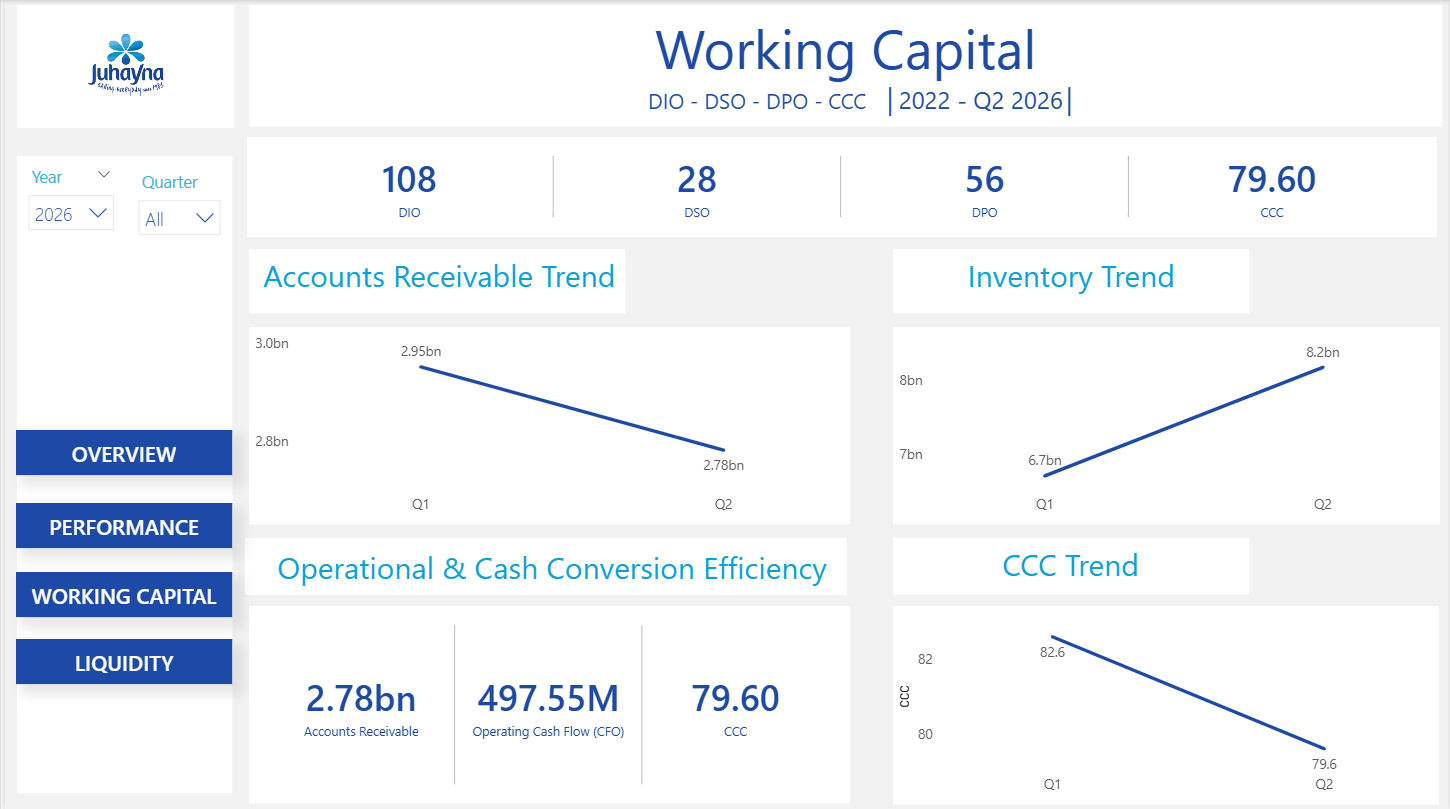

The dashboard page shown, as its layout file describes it:
{"tool":"powerbi","page":{"name":"WORKING CAPITAL","canvas":[1280,720],"ordinal":2},"visuals":[{"type":"shape","box":[10.7,4.3,192.7,109],"z":0,"group":"g2"},{"type":"shape","box":[216.7,4.4,1058.3,108.2],"z":0,"group":"g3"},{"type":"shape","box":[10.6,138.5,191.3,565.5],"z":0,"group":"g4"},{"type":"slicer","title":"quarter","fields":{"Values":["Dim_Date.Quarter"]},"box":[108.2,145.5,93.1,75.4],"z":0,"group":"g1"},{"type":"shape","box":[787.1,220.7,316.5,57.4],"z":0},{"type":"textbox","box":[216.7,4.4,1058.3,108.2],"z":1000,"group":"g3"},{"type":"image","box":[10.7,7.8,192.1,105.4],"z":1000,"group":"g2"},{"type":"slicer","title":"year","fields":{"Values":["Dim_Date.Year"]},"box":[10.9,141.1,95.8,79.5],"z":1000,"group":"g1"},{"type":"group","id":"g1","title":"Slicers","box":[10.9,141.1,721.9,348.8],"z":1000,"group":"g4"},{"type":"shape","box":[216.7,220.7,333.6,57.4],"z":1000},{"type":"shape","box":[212.7,477.2,533.6,50.5],"z":2000},{"type":"textbox","box":[213.9,479.6,543,57.6],"z":3000},{"type":"textbox","box":[787.1,220.7,316.5,57.4],"z":4000},{"type":"textbox","box":[216.7,220.7,337.6,57.4],"z":5000},{"type":"cardVisual","title":"CAPITALE cards","fields":{"Data":["saief.DIO","saief.DSO","saief.DPO","saief.CCC"]},"box":[214.2,121,1055.1,88.9],"z":6000},{"type":"group","id":"g2","title":"Logo","box":[10.7,4.3,191.7,108.2],"z":7000},{"type":"group","id":"g3","title":"Title","box":[216.7,4.4,1057.8,107.8],"z":8000},{"type":"group","id":"g4","title":"Slicer Pane","box":[10.6,138.5,722.2,565.5],"z":9000},{"type":"actionButton","box":[9.3,381.4,191.7,40.4],"z":10000},{"type":"actionButton","box":[9.3,445.7,191.7,40.4],"z":11000},{"type":"actionButton","box":[9.3,506.8,191.7,40.4],"z":12000},{"type":"actionButton","box":[9.3,566.9,191.7,40.4],"z":13000},{"type":"shape","box":[787.1,476.7,316.5,50.4],"z":14000},{"type":"textbox","box":[777.1,476.7,336.6,50.4],"z":15000},{"type":"lineChart","fields":{"Category":["Dim_Date.Quarter"],"Y":["measurehosam.Inventory"]},"box":[787.1,290.3,484.8,175.4],"z":16000},{"type":"lineChart","fields":{"Category":["Dim_Date.Quarter"],"Y":["saief.CCC"]},"box":[787.1,537.2,483.8,176.4],"z":17000},{"type":"lineChart","fields":{"Category":["Dim_Date.Quarter"],"Y":["ahmed_measures.Accounts Receivable"]},"box":[216.7,290.3,533.2,175.4],"z":18000},{"type":"cardVisual","fields":{"Data":["ahmed_measures.Accounts Receivable","ahmed_measures.Operating Cash Flow (CFO)","saief.CCC"]},"box":[216.7,537.2,533.2,175.4],"z":19000}]}

Visuals, with their boxes in screenshot pixels (x1, y1, x2, y2), scaled from the page's 1280x720 canvas onto the 1450x809 screenshot:
shape: Rect(12, 5, 230, 127)
shape: Rect(245, 5, 1444, 127)
shape: Rect(12, 156, 229, 791)
"quarter" slicer: Rect(123, 163, 228, 248)
shape: Rect(892, 248, 1250, 312)
textbox: Rect(245, 5, 1444, 127)
image: Rect(12, 9, 230, 127)
"year" slicer: Rect(12, 159, 121, 248)
"Slicers" group: Rect(12, 159, 830, 550)
shape: Rect(245, 248, 623, 312)
shape: Rect(241, 536, 845, 593)
textbox: Rect(242, 539, 857, 604)
textbox: Rect(892, 248, 1250, 312)
textbox: Rect(245, 248, 628, 312)
"CAPITALE cards" cardVisual: Rect(243, 136, 1438, 236)
"Logo" group: Rect(12, 5, 229, 126)
"Title" group: Rect(245, 5, 1444, 126)
"Slicer Pane" group: Rect(12, 156, 830, 791)
actionButton: Rect(11, 429, 228, 474)
actionButton: Rect(11, 501, 228, 546)
actionButton: Rect(11, 569, 228, 615)
actionButton: Rect(11, 637, 228, 682)
shape: Rect(892, 536, 1250, 592)
textbox: Rect(880, 536, 1262, 592)
lineChart - Dim_Date.Quarter x measurehosam.Inventory: Rect(892, 326, 1441, 523)
lineChart - Dim_Date.Quarter x saief.CCC: Rect(892, 604, 1440, 802)
lineChart - Dim_Date.Quarter x ahmed_measures.Accounts Receivable: Rect(245, 326, 849, 523)
cardVisual - ahmed_measures.Accounts Receivable x ahmed_measures.Operating Cash Flow (CFO): Rect(245, 604, 849, 801)
